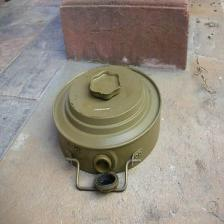TM-46: (52, 63, 165, 199)
